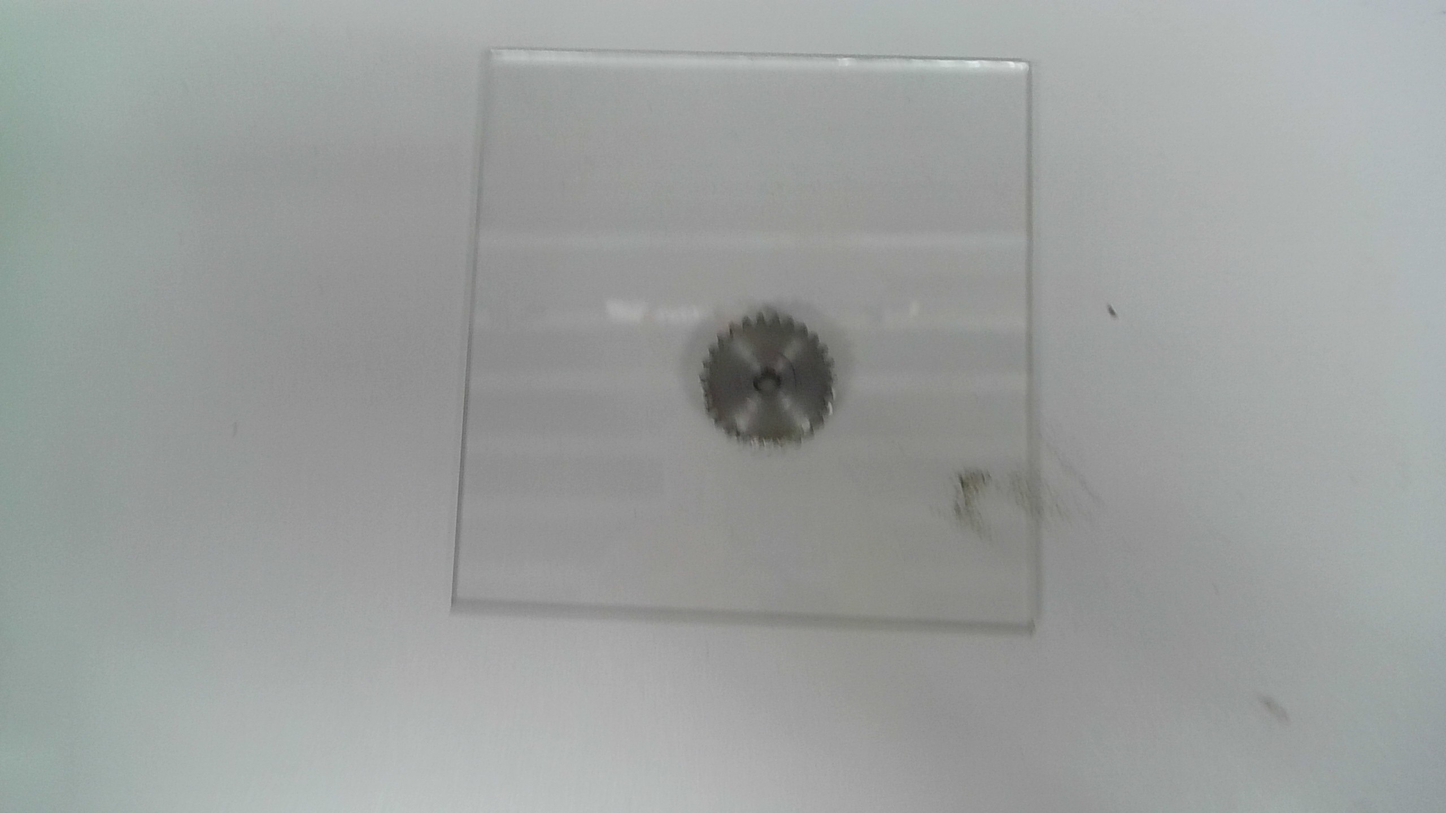gear: (697, 312, 839, 449)
